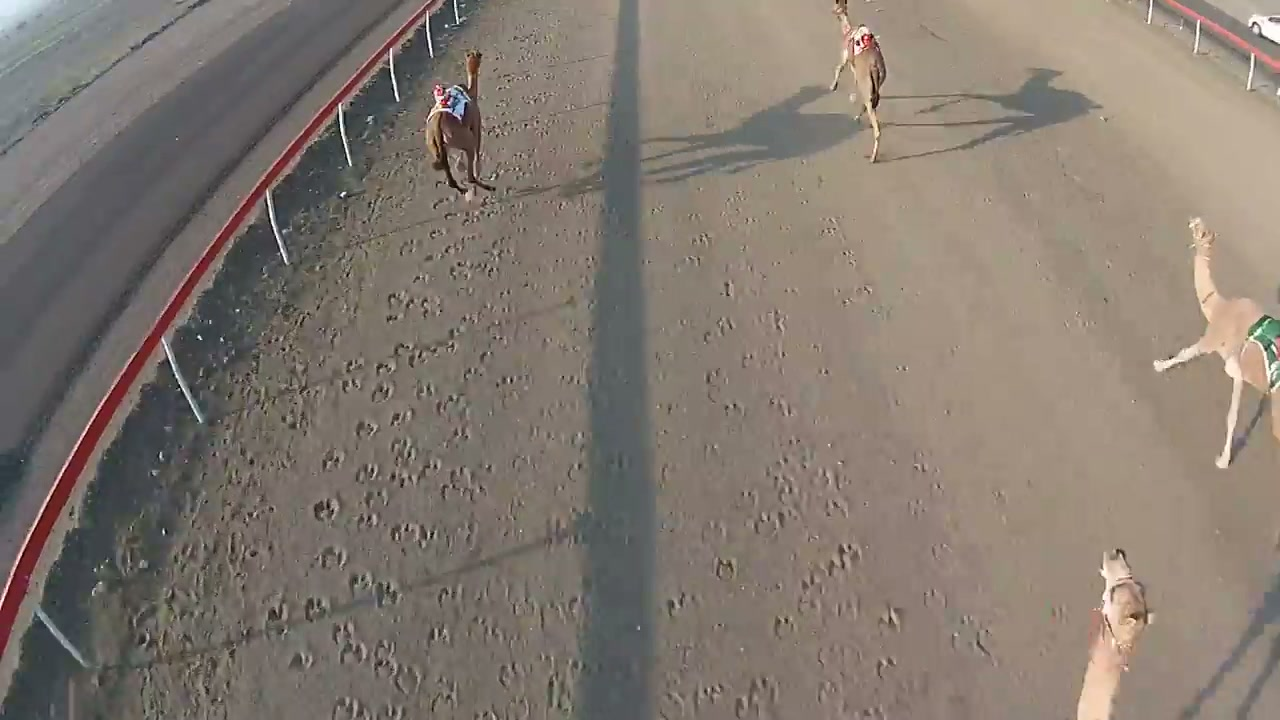animal_footprint: (282, 202, 502, 711), (697, 264, 862, 702)
